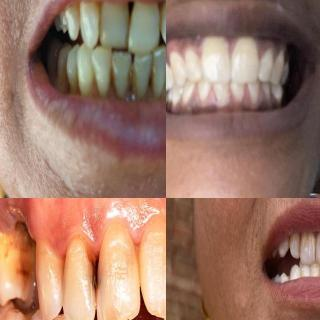Gum Swelling: (32, 211, 119, 255), (118, 209, 163, 245)
calculus: (124, 74, 140, 96)
cavities: (86, 254, 108, 298)
maligned: (119, 4, 155, 48), (298, 226, 316, 262), (287, 232, 301, 262), (312, 225, 320, 267), (298, 261, 310, 280), (310, 259, 320, 279)
plaque: (234, 35, 256, 75), (202, 35, 228, 67), (186, 50, 208, 82), (213, 87, 229, 117), (171, 54, 187, 78), (198, 82, 214, 106), (182, 89, 198, 112), (249, 87, 263, 111), (231, 82, 245, 102)
stains: (93, 0, 108, 40), (130, 67, 142, 107), (123, 17, 138, 47), (148, 62, 158, 94), (157, 5, 166, 40), (107, 67, 117, 98), (297, 238, 303, 258), (287, 235, 292, 248)
